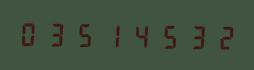five: (71, 19, 97, 49), (152, 20, 178, 50)
four: (125, 19, 151, 50)
one: (98, 19, 124, 49)
three: (44, 18, 70, 49), (179, 20, 205, 51)
two: (206, 21, 232, 51)
zero: (17, 18, 43, 48)
